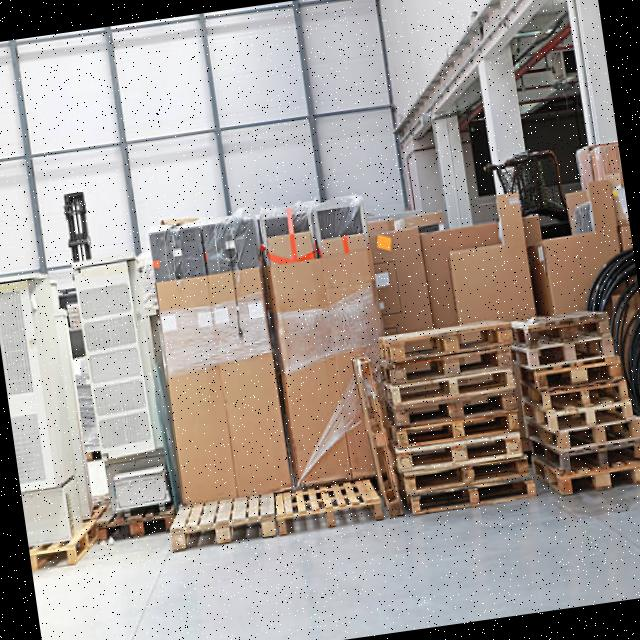Wooden-Pallets: (382, 316, 518, 368), (408, 474, 546, 524), (398, 429, 528, 476), (275, 491, 385, 541), (167, 512, 277, 554), (539, 394, 639, 440), (520, 332, 620, 372), (551, 460, 640, 504)
